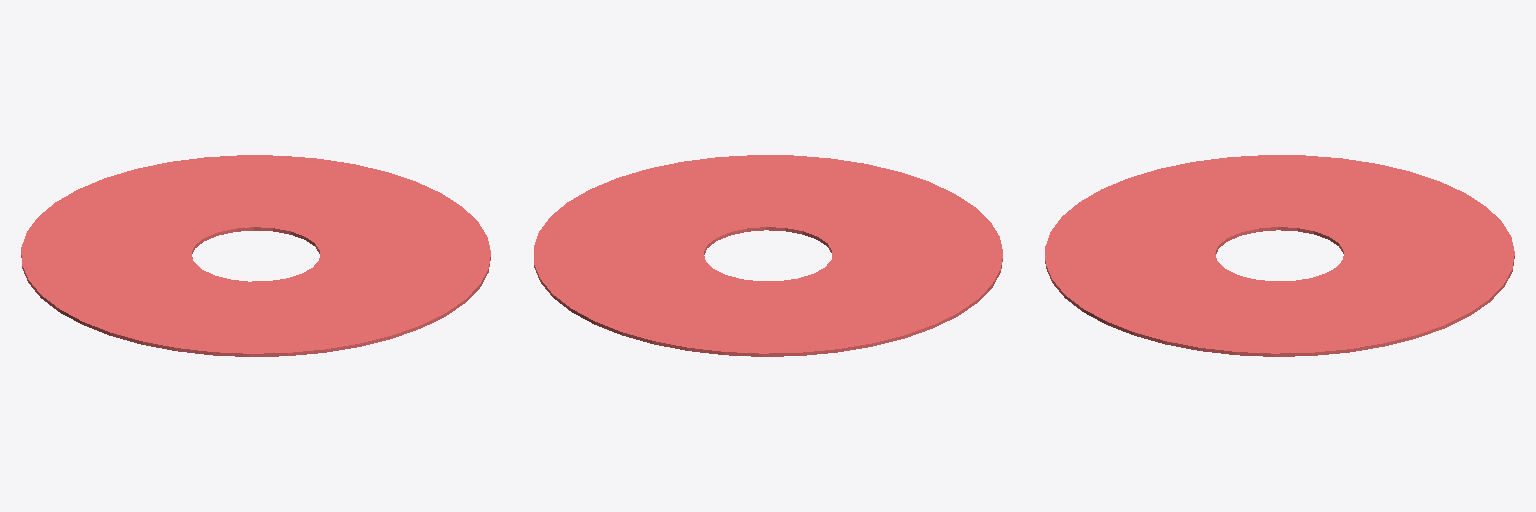
File: solo12_hip_fe_15.obj
3 views of the same model, side by side, from view 1: azimuth 30°, elevation 25°; view 2: azimuth 150°, elevation 25°; view 3: azimuth 270°, elevation 25° (orthographic).
Bounding box in the file's own units: 0.0255 × 0.0002 × 0.0255.